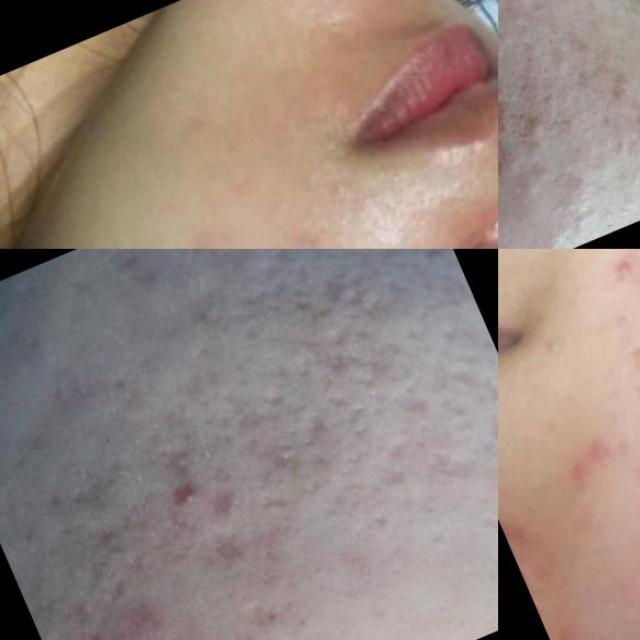8: (548, 428, 624, 497), (108, 587, 181, 640), (548, 26, 608, 75), (510, 106, 558, 152), (612, 336, 640, 407), (602, 71, 638, 105), (624, 488, 640, 540)
9: (610, 249, 640, 285)
blackheads: (32, 443, 138, 525), (302, 304, 379, 390), (242, 419, 308, 490), (380, 358, 436, 428), (200, 526, 262, 584), (286, 393, 342, 451), (366, 264, 417, 321), (470, 396, 498, 461), (200, 484, 243, 524)
dark spot: (498, 135, 522, 164)
